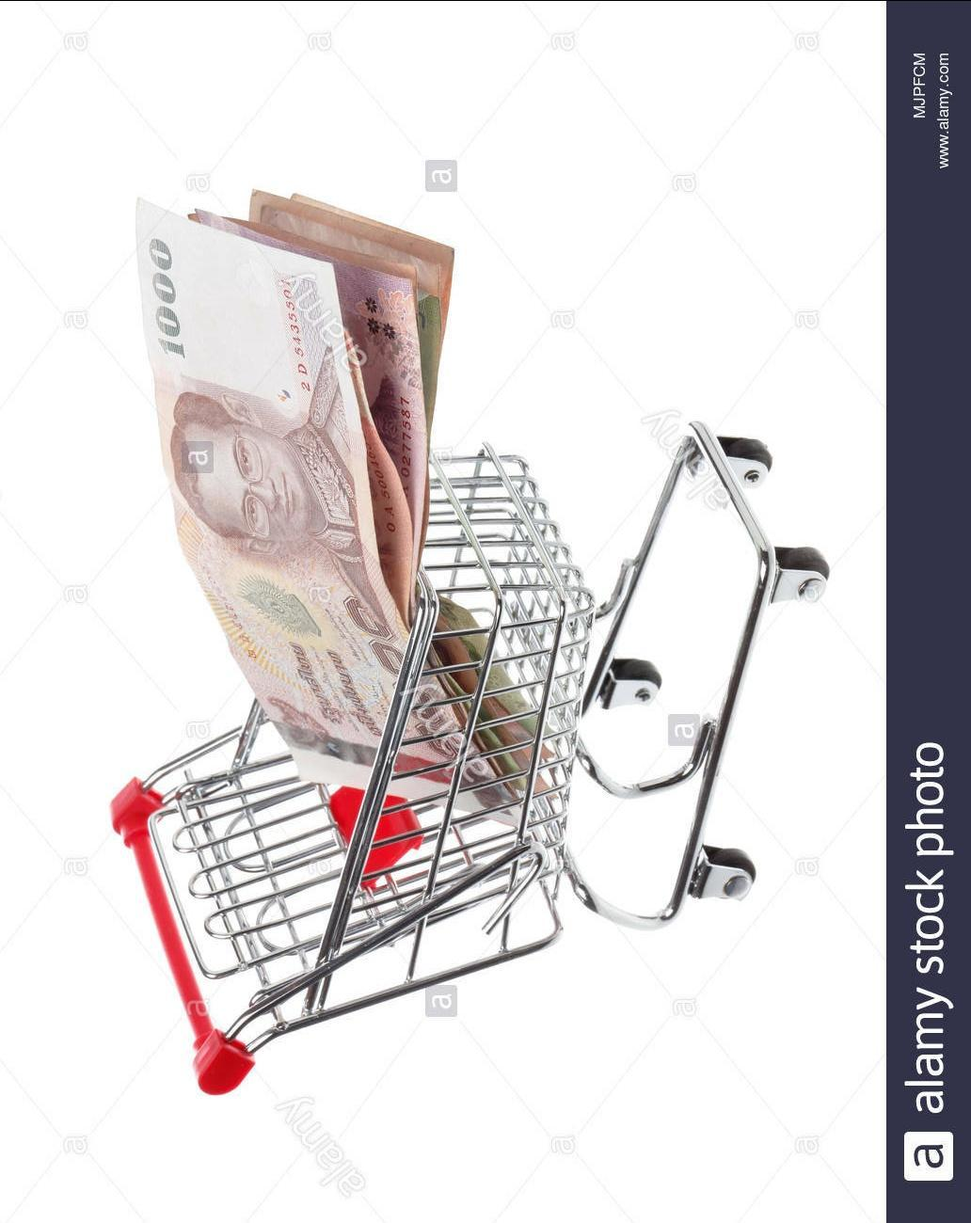1000BahtTai: (134, 206, 480, 788)
